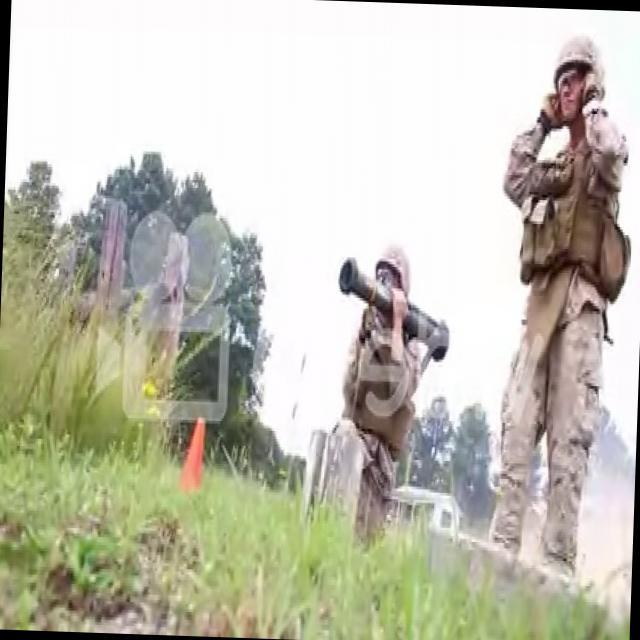rocket: (340, 260, 451, 366)
